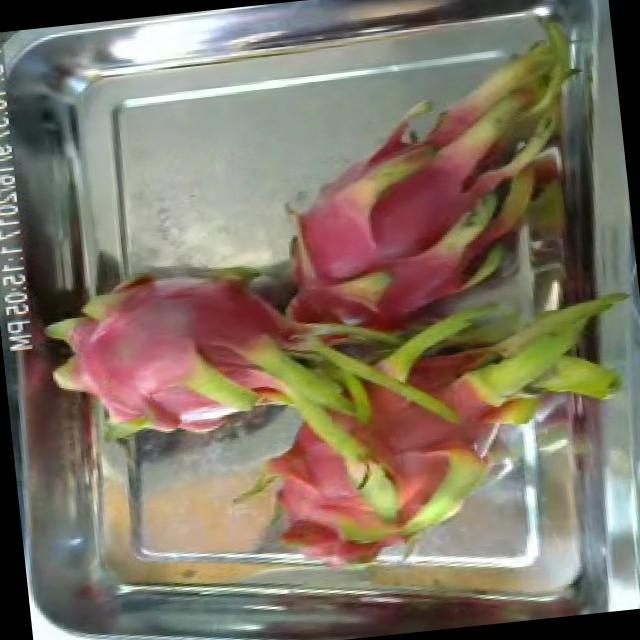Fruit: (100, 412, 318, 577)
